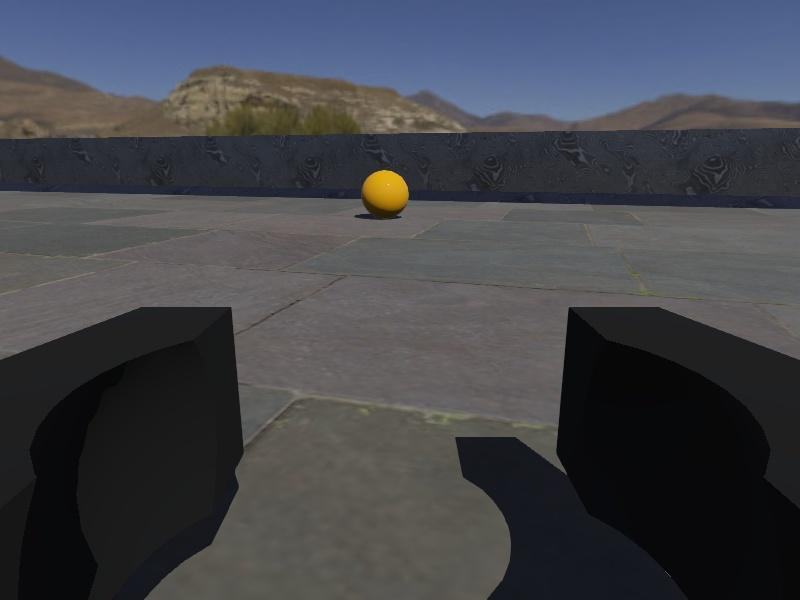orange ball: (360, 168, 410, 220)
